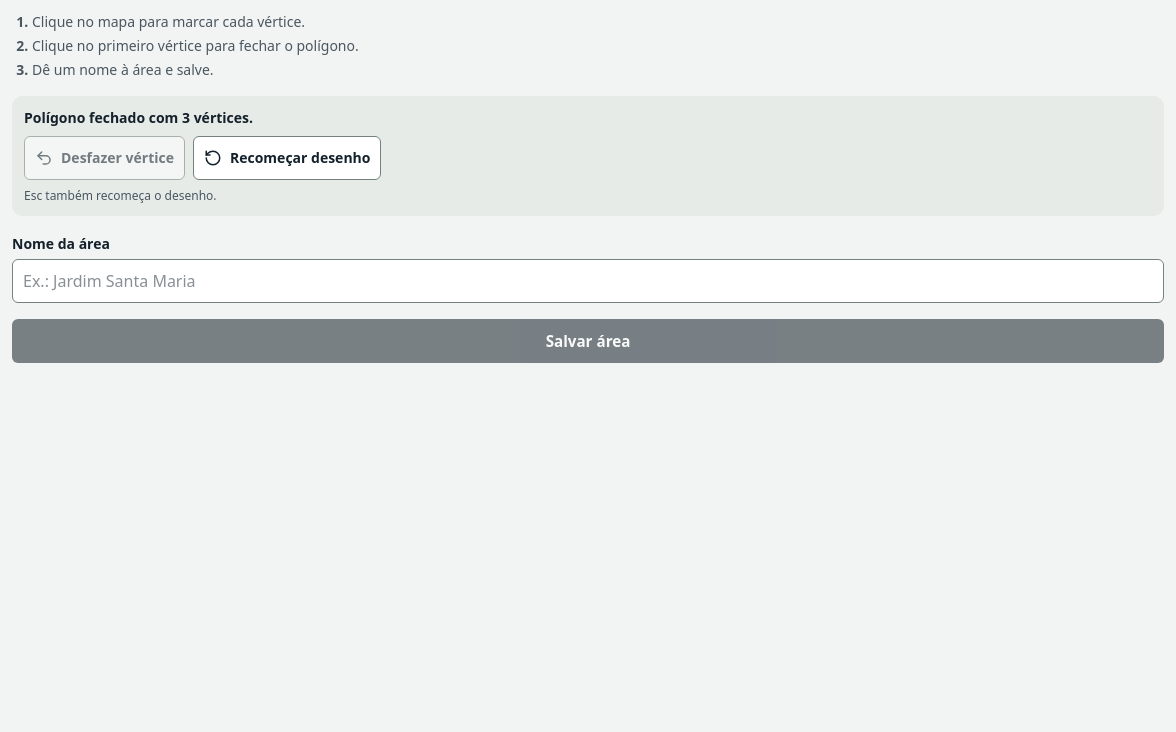
Test: FormArea › salva e avisa a classe com que a área nasceu
Type "Vila nova" into the field labelled "Nome da área".
click(588, 281); type("Vila nova")  # box left=12, top=259, right=1164, bottom=303
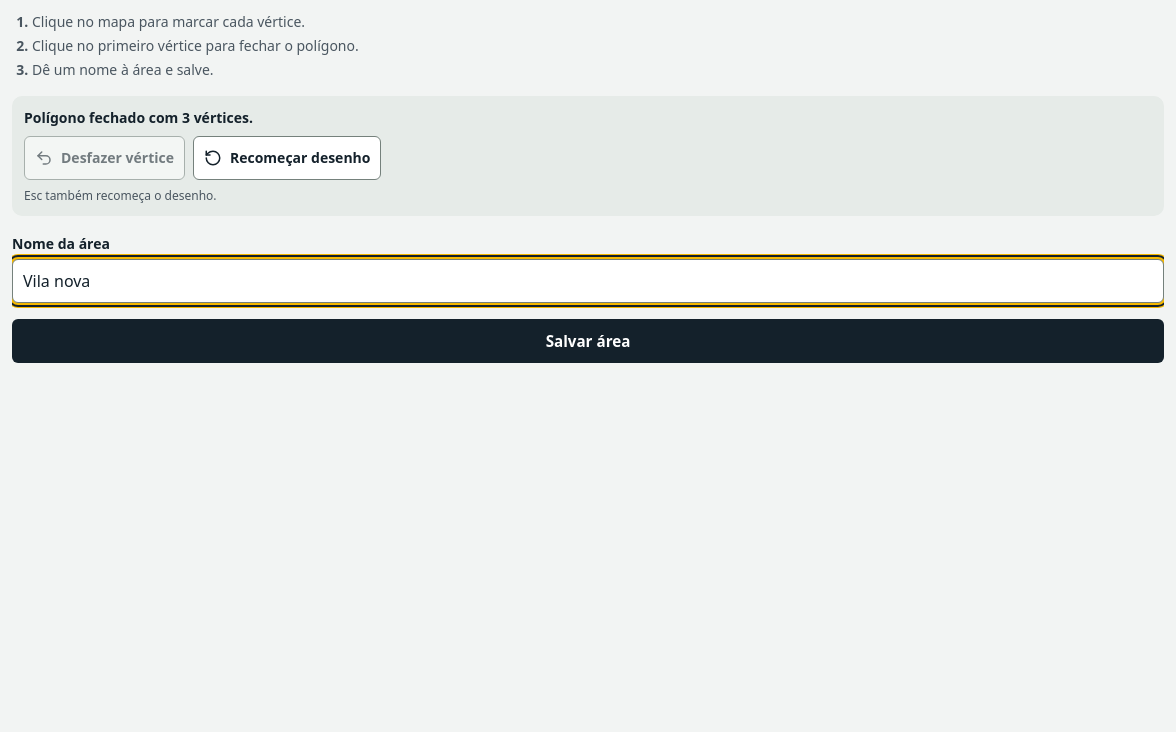
Click the button "Salvar área".
click(588, 341)  # box left=12, top=319, right=1164, bottom=363
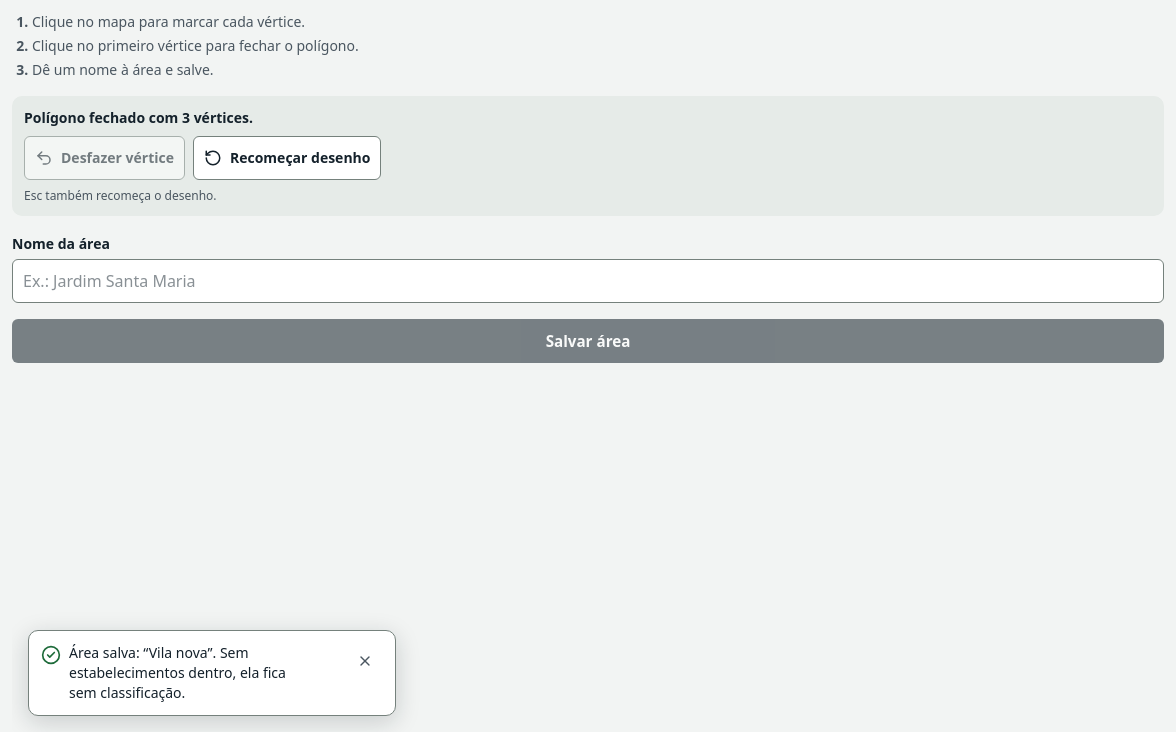
Result: the message shows "Área salva: “Vila nova”. Sem estabelecimentos dentro, ela fica sem classificação." at left=69, top=643, right=286, bottom=702
